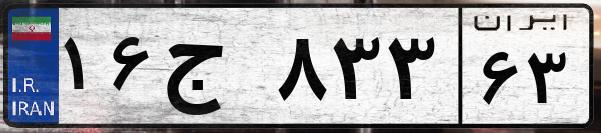1: (57, 26, 110, 100)
3: (385, 28, 445, 110), (330, 28, 385, 110), (525, 38, 570, 115)
6: (475, 38, 525, 113), (110, 28, 158, 98)
8: (270, 28, 330, 110)
ج: (158, 20, 270, 120)
